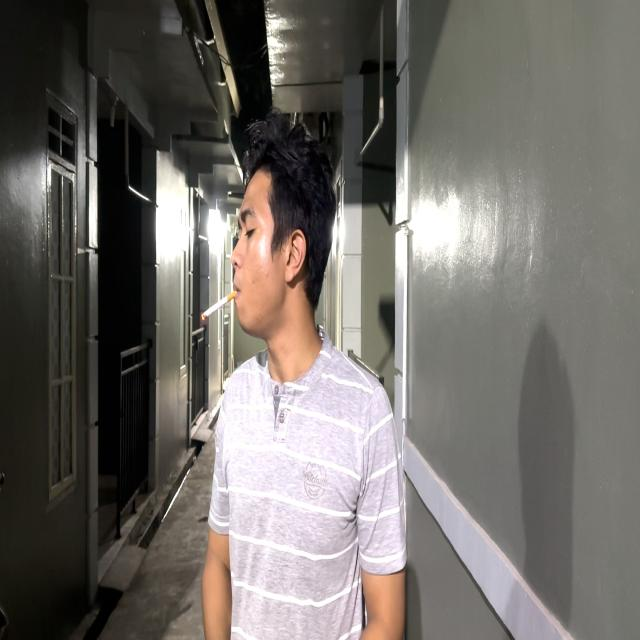cigarette: (199, 285, 240, 326)
smoking: (197, 101, 340, 639)
